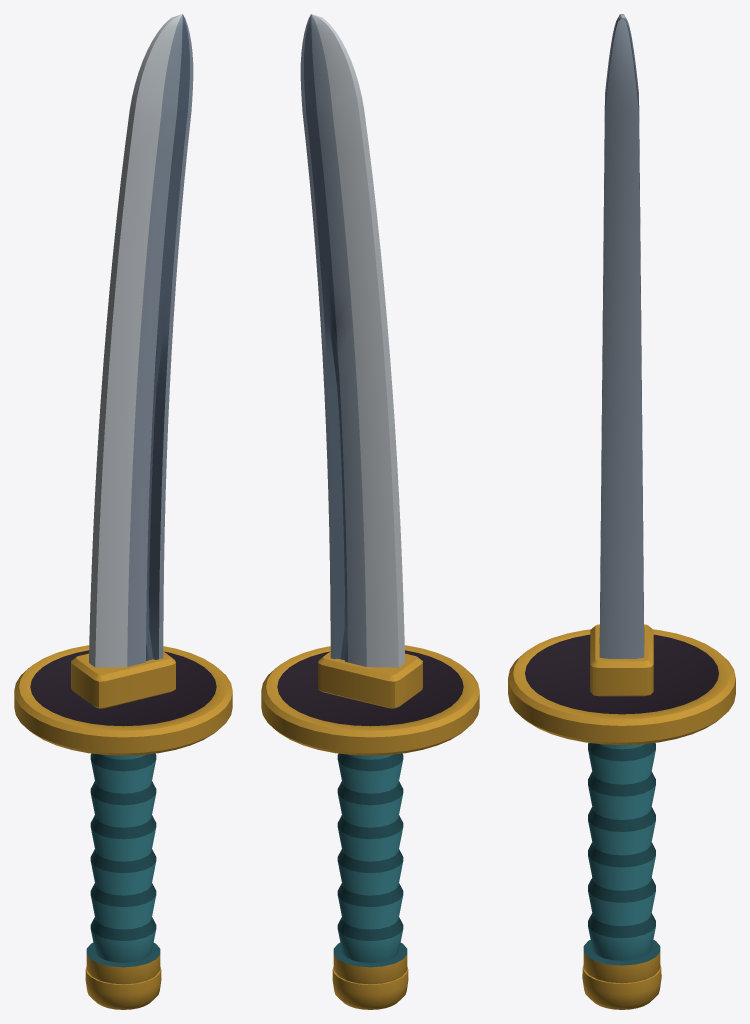
The model's file is Katana_06.glb.
3 views of the same model, side by side, from view 1: azimuth 30°, elevation 25°; view 2: azimuth 150°, elevation 25°; view 3: azimuth 270°, elevation 25° (orthographic). The views are drawn at different scales.
Visible parts, largest first — view 1: Katana_06; view 2: Katana_06; view 3: Katana_06.
Boxes of the visible parts, x1=… form: Katana_06: x1=14, y1=14, x2=232, y2=1009; Katana_06: x1=261, y1=14, x2=479, y2=1009; Katana_06: x1=508, y1=14, x2=735, y2=1009.
Size of the model in its own units: 1.36 by 6.63 by 1.36.
